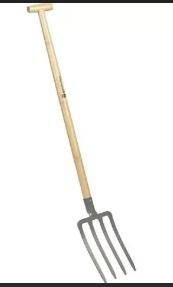RATEAU: (4, 0, 173, 287)
